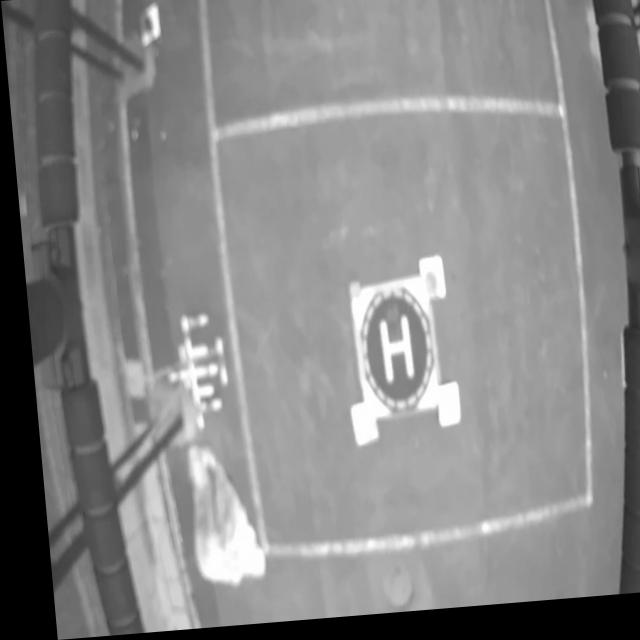Helipad: (371, 321, 406, 386)
